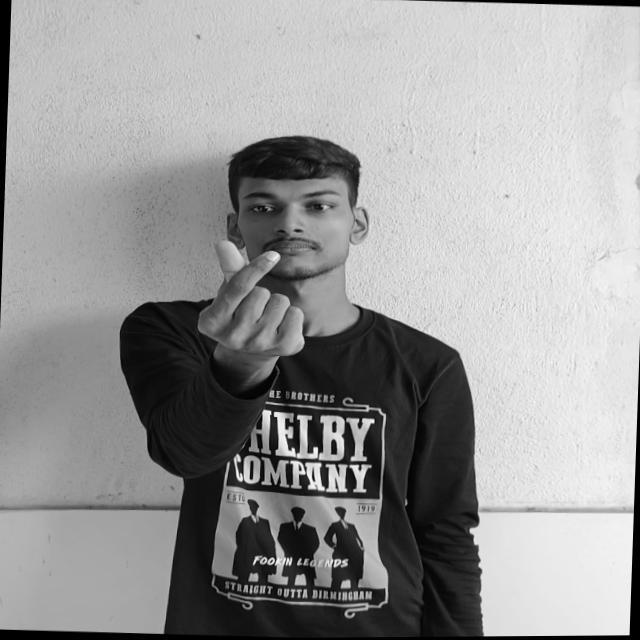Grattitude: (196, 240, 314, 361)
